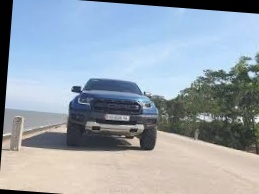Bien-so: (102, 110, 127, 118)
